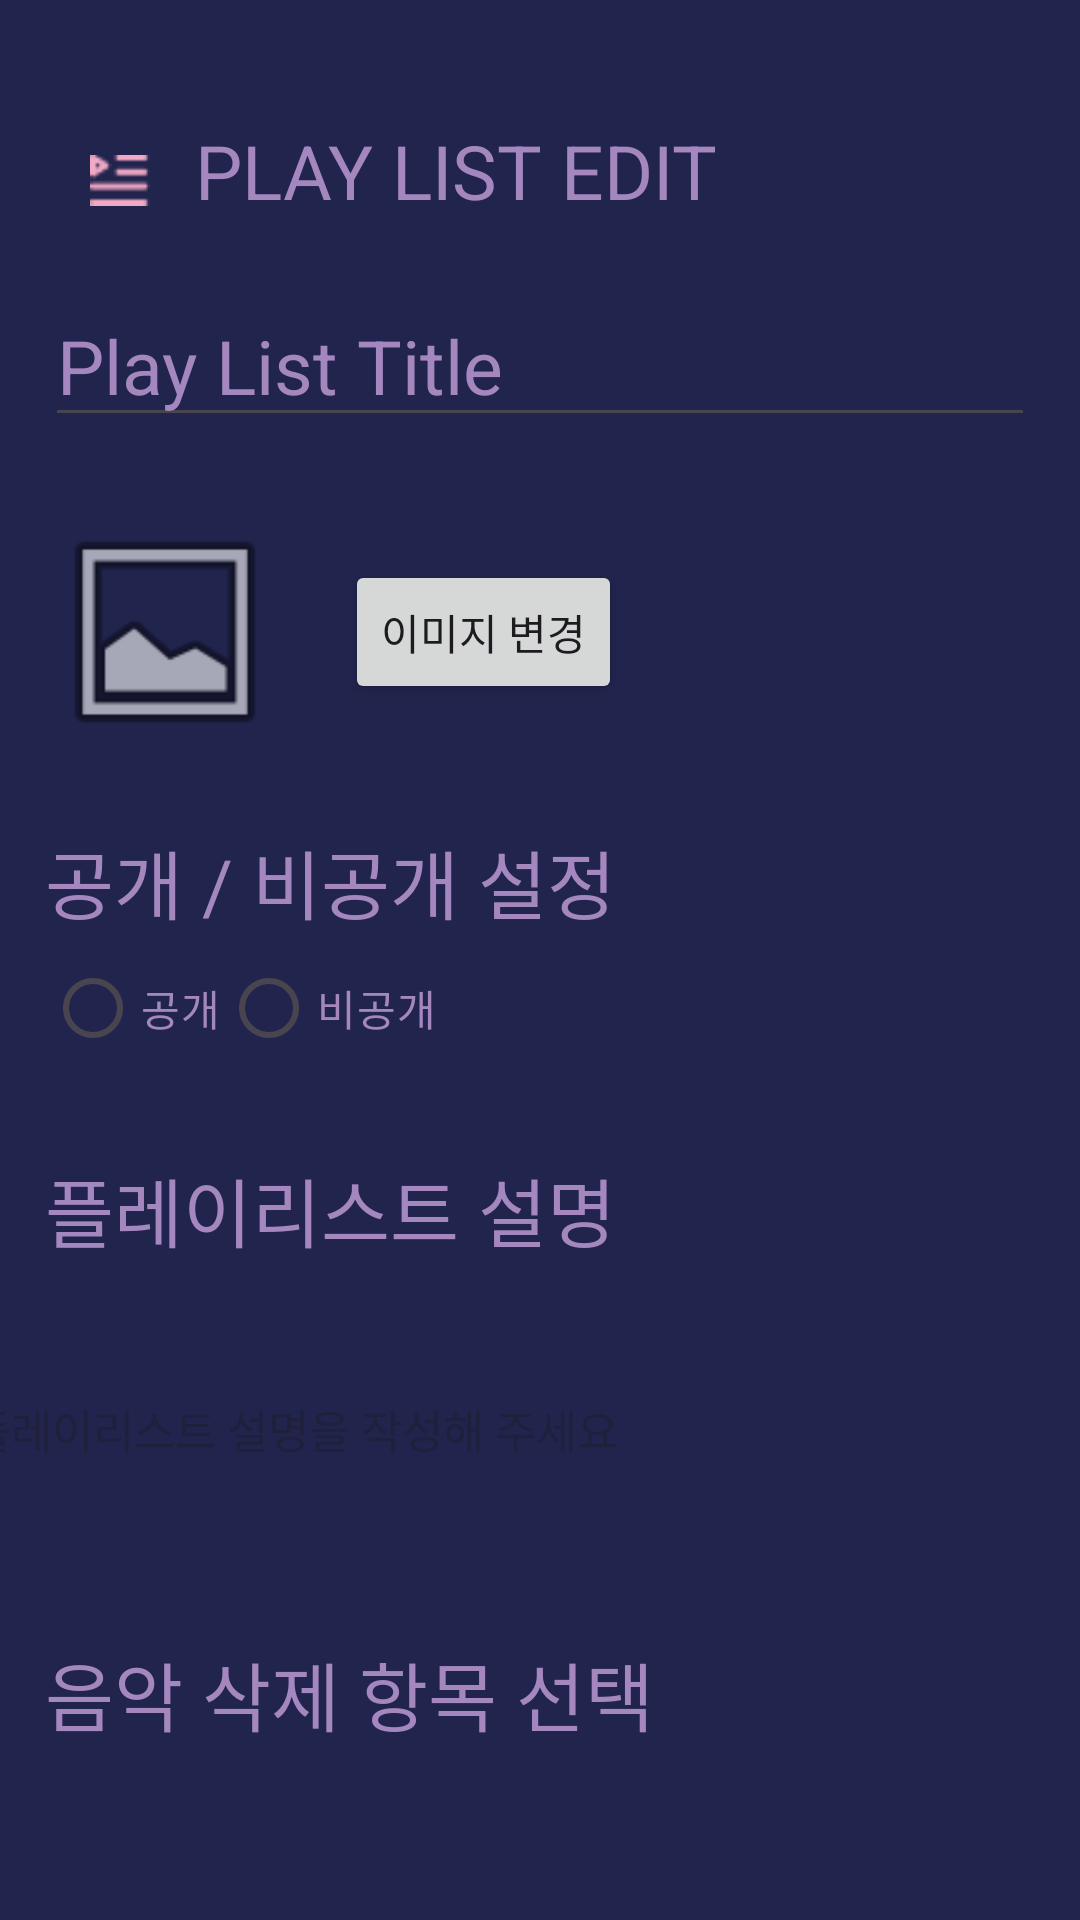

Where to tap for icons on this 1080x1920 app screen, as [x,y]:
gallery: [165,632]
